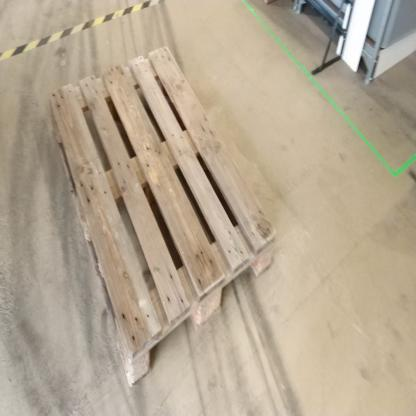BoxFace: (45, 34, 284, 396)
